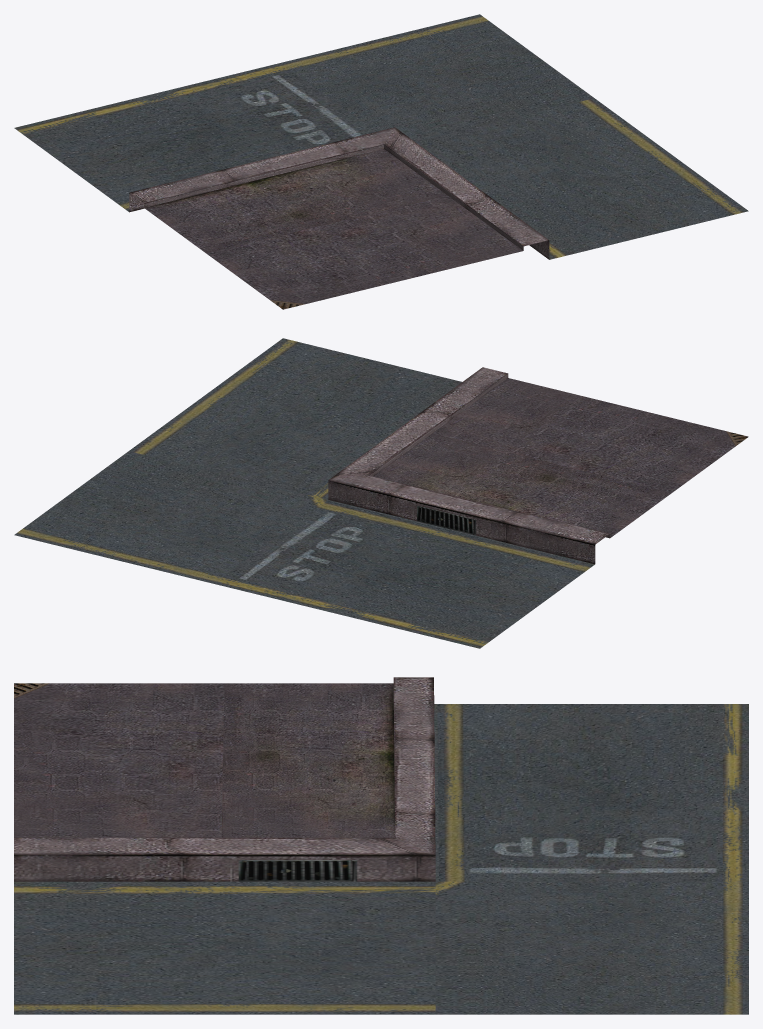
Rendered from Road1_Part_01.fbx.
3 views of the same model, one above another, from view 1: azimuth 30°, elevation 25°; view 2: azimuth 150°, elevation 25°; view 3: azimuth 270°, elevation 25° (orthographic). The views are drawn at different scales.
Visible parts, largest first — view 1: Road_Part_01; view 2: Road_Part_01; view 3: Road_Part_01.
Part boxes in pixels (x1,y1,x2,y2): Road_Part_01: (14, 14, 748, 309); Road_Part_01: (14, 338, 748, 648); Road_Part_01: (14, 677, 748, 1014).
Size of the model in its own units: 467 by 18.88 by 467.
